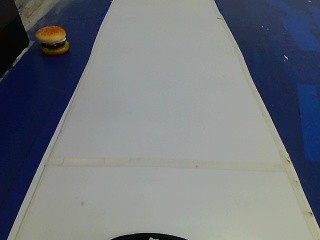burger: (29, 19, 74, 60)
